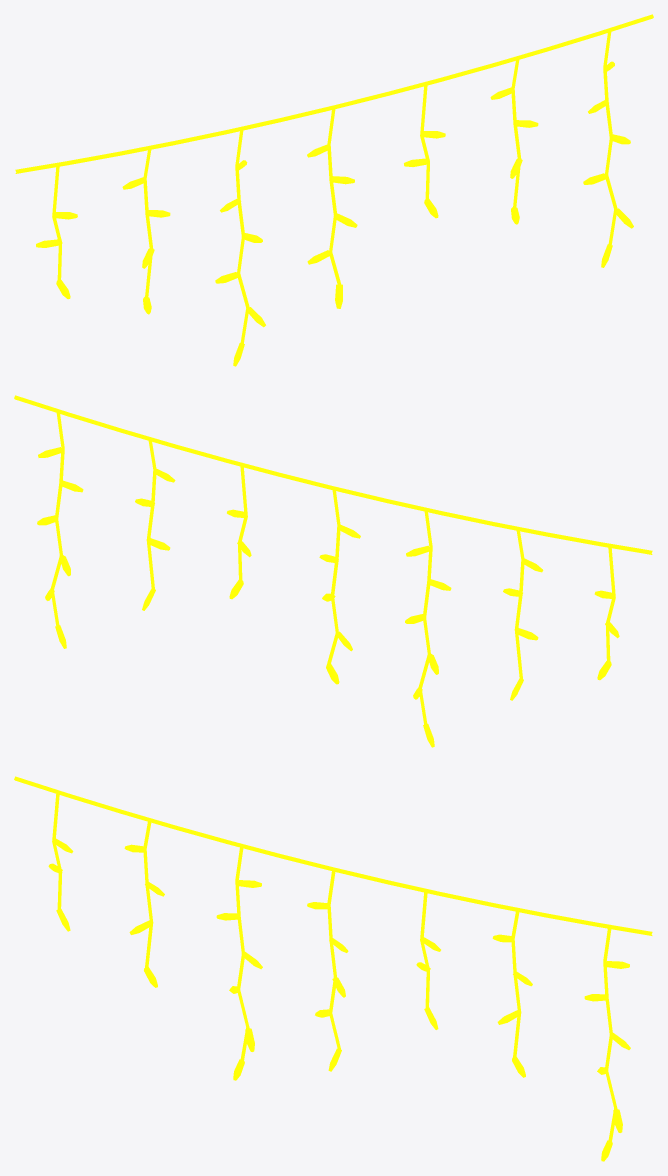
File: light-string-white-2m-christmas.glb
3 renders of one model, top to bottom at view 1: azimuth 30°, elevation 25°; view 2: azimuth 150°, elevation 25°; view 3: azimuth 330°, elevation 25°, orthographic.
Visible parts, largest first — view 1: light_string_white_2m_christmas; view 2: light_string_white_2m_christmas; view 3: light_string_white_2m_christmas.
Part boxes in pixels (bbox=[...]): light_string_white_2m_christmas: bbox=[15, 14, 653, 366]; light_string_white_2m_christmas: bbox=[14, 395, 652, 747]; light_string_white_2m_christmas: bbox=[14, 776, 652, 1161].
Size of the model in its own units: 2 by 0.7503 by 0.0886.
Materials: 2 (2 with a texture image).
